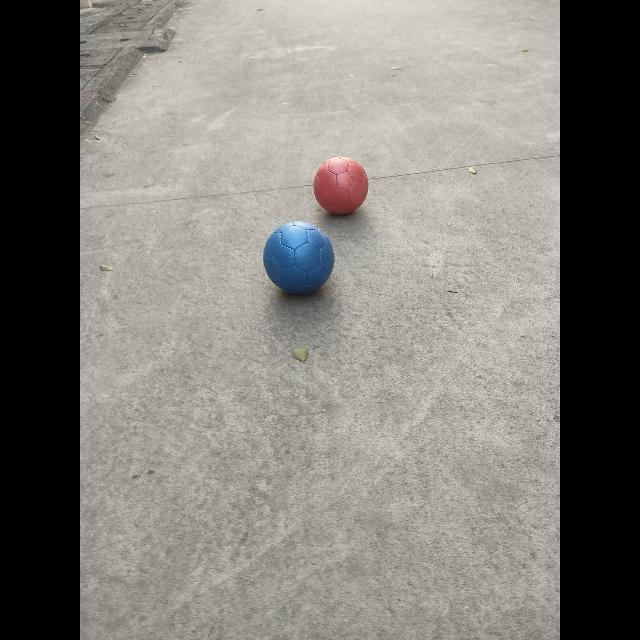B: (264, 222, 334, 296)
R: (314, 158, 368, 216)
